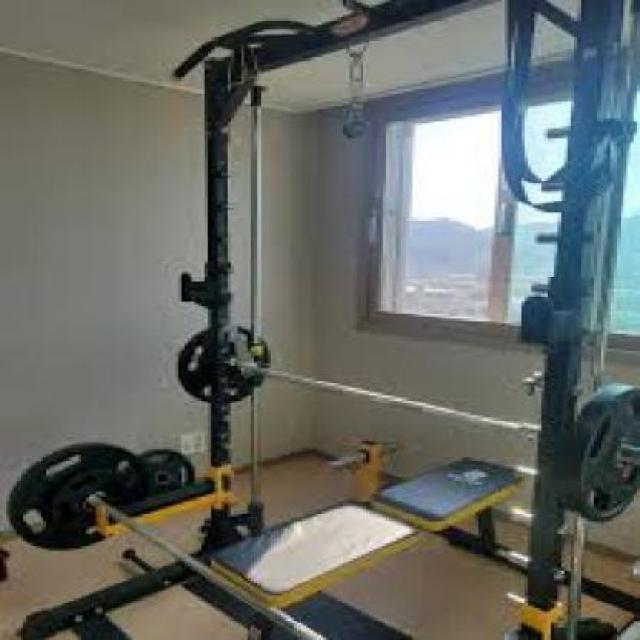smith machine: (177, 1, 640, 640)
